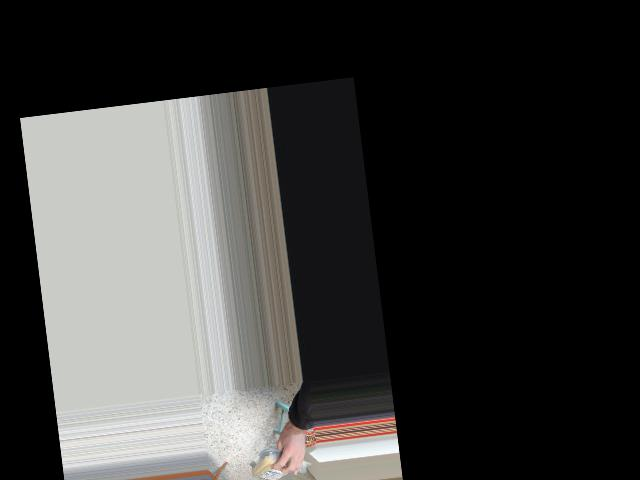cheese: (247, 450, 295, 480)
